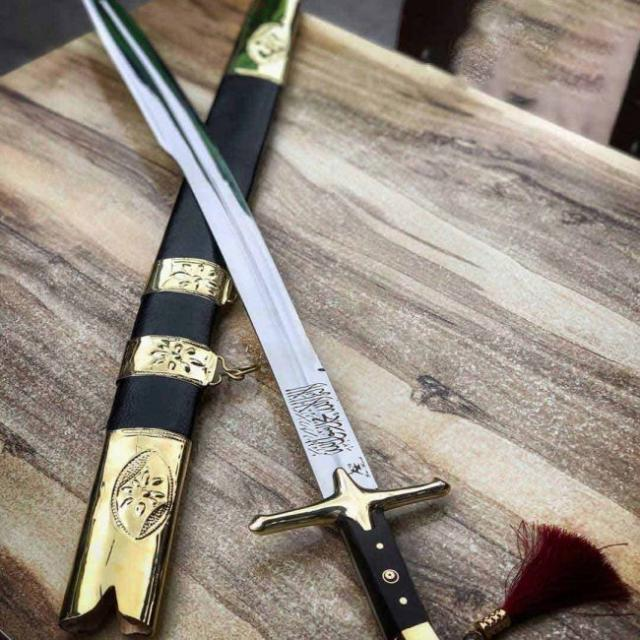scabbard: (53, 1, 303, 631)
sword: (68, 1, 491, 639)
